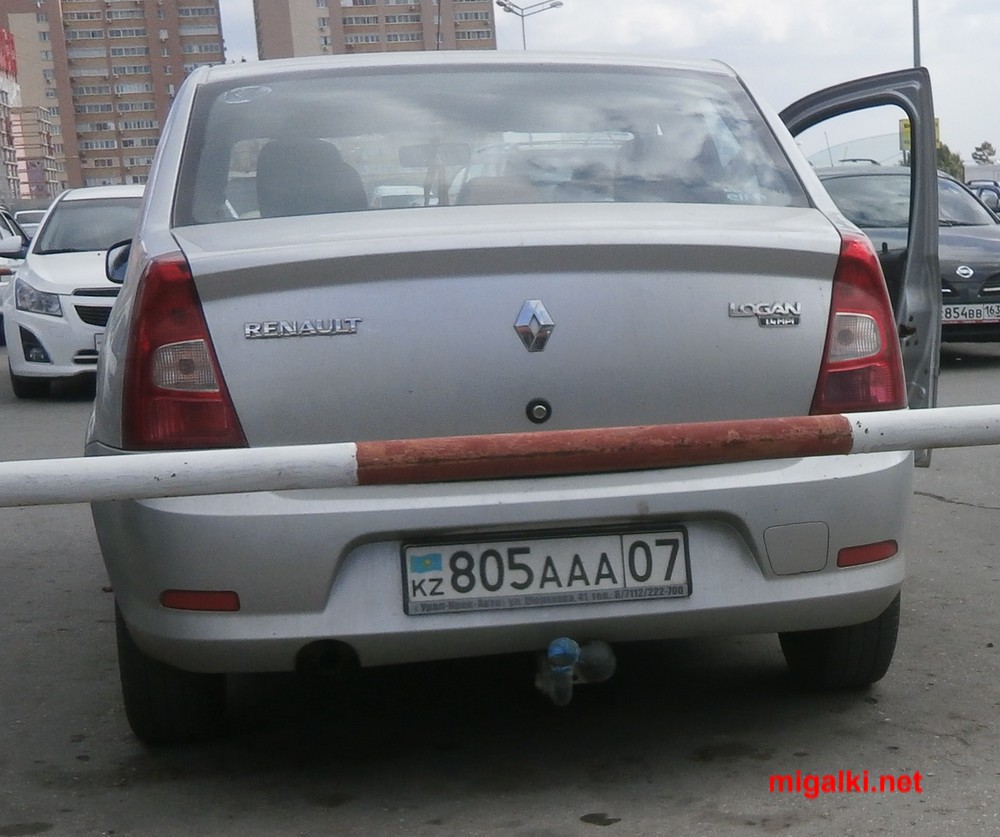license_plate: (400, 532, 690, 607)
